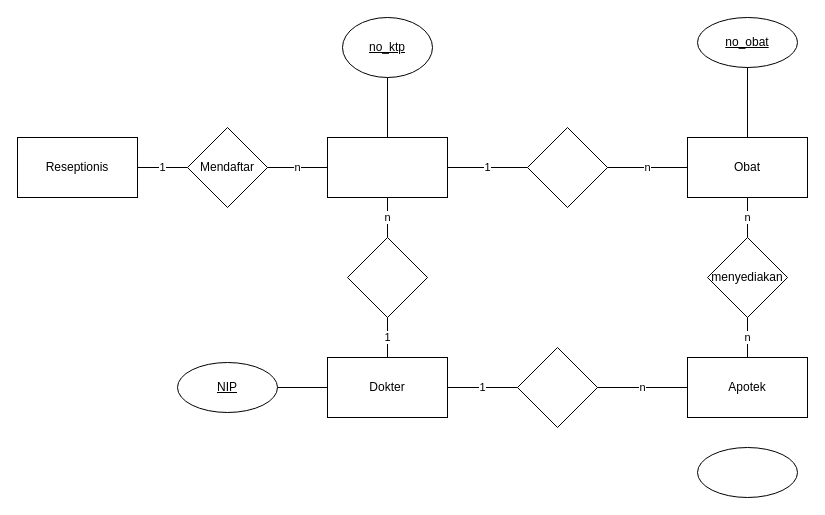
Image size: 825x515. Some labels were removed from this diagram. Here are the shapes that lost their labels. From the top down, the centre of each, then its label:
(x=387, y=167): Pasien
(x=567, y=167): mengambil
(x=387, y=277): merawat
(x=557, y=387): memberi resep
(x=747, y=472): no_ijin_apotek
